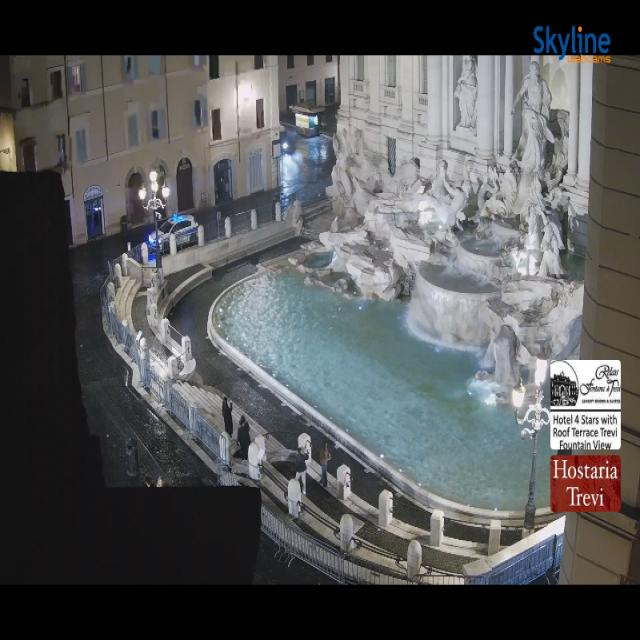person: (237, 416, 251, 459), (296, 448, 308, 495), (320, 443, 331, 488), (222, 397, 232, 437), (145, 476, 155, 488), (156, 477, 163, 487)
